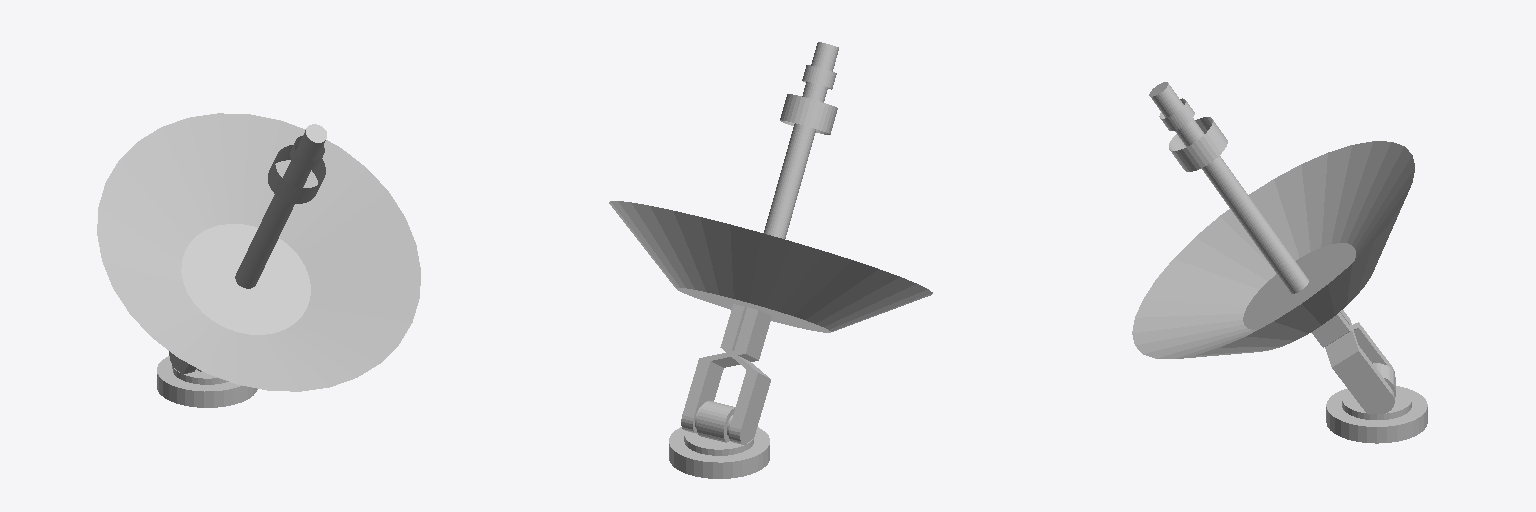
File: dishv3.obj
3 views of the same model, side by side, from view 1: azimuth 30°, elevation 25°; view 2: azimuth 150°, elevation 25°; view 3: azimuth 270°, elevation 25° (orthographic).
Parts seen in each view (by area): view 1: Cylinder.011; view 2: Cylinder.011; view 3: Cylinder.011.
Part boxes in pixels (x1,y1,x2,y2): Cylinder.011: (97,113,420,407); Cylinder.011: (609,42,932,478); Cylinder.011: (1132,82,1427,443).
Size of the model in its own units: 50.89 by 57.36 by 44.62.